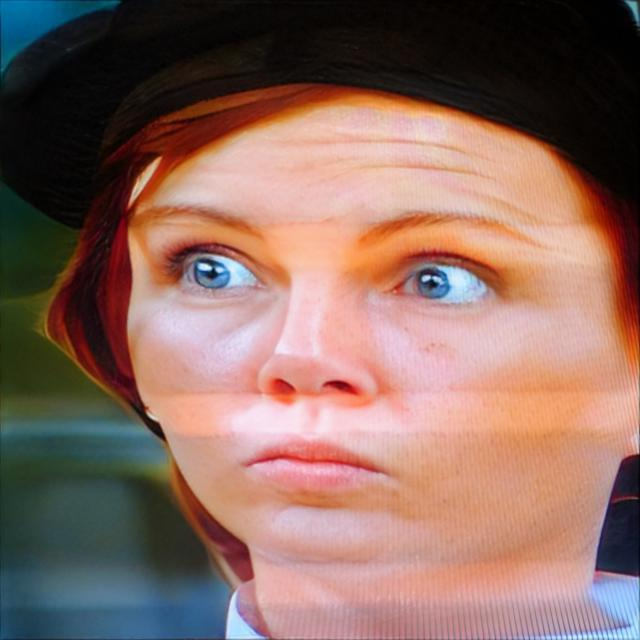fear: (122, 80, 622, 567)
